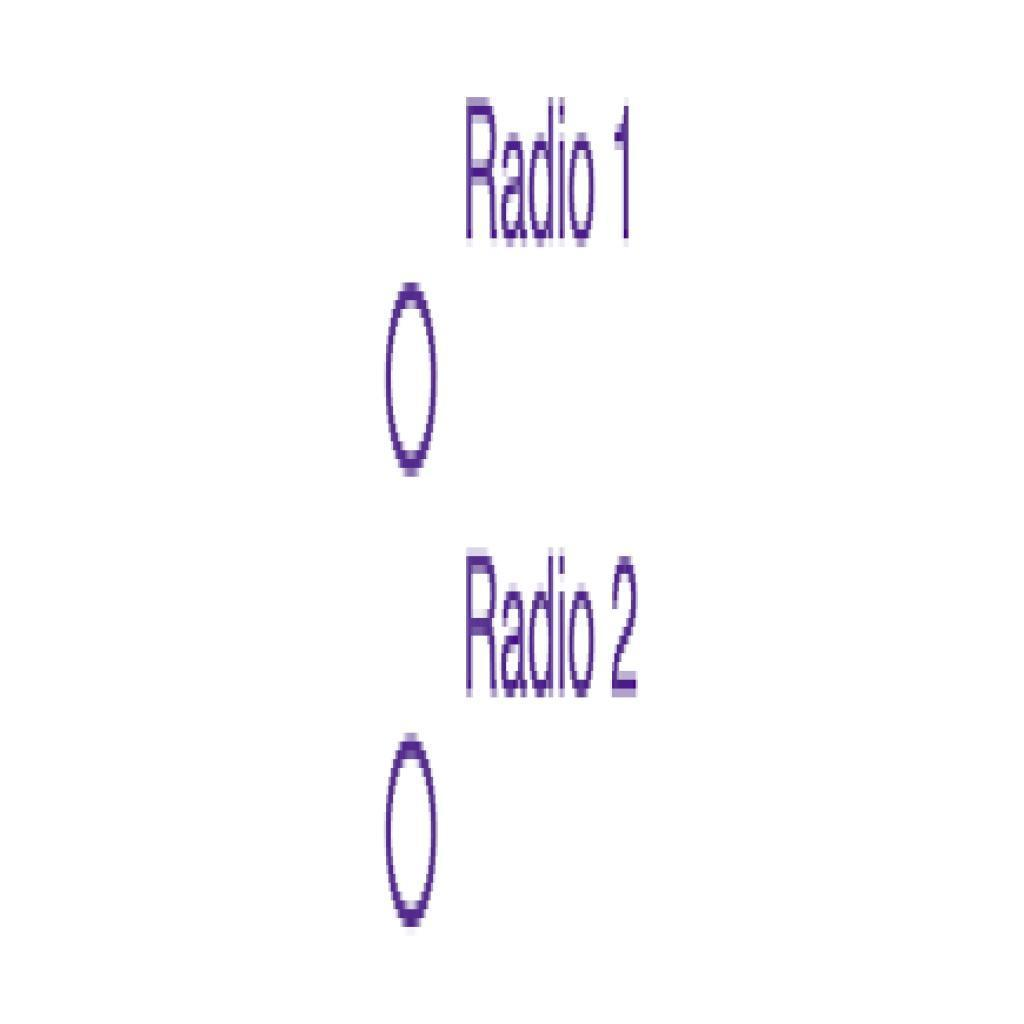radio: (379, 276, 444, 475), (380, 731, 444, 926)
